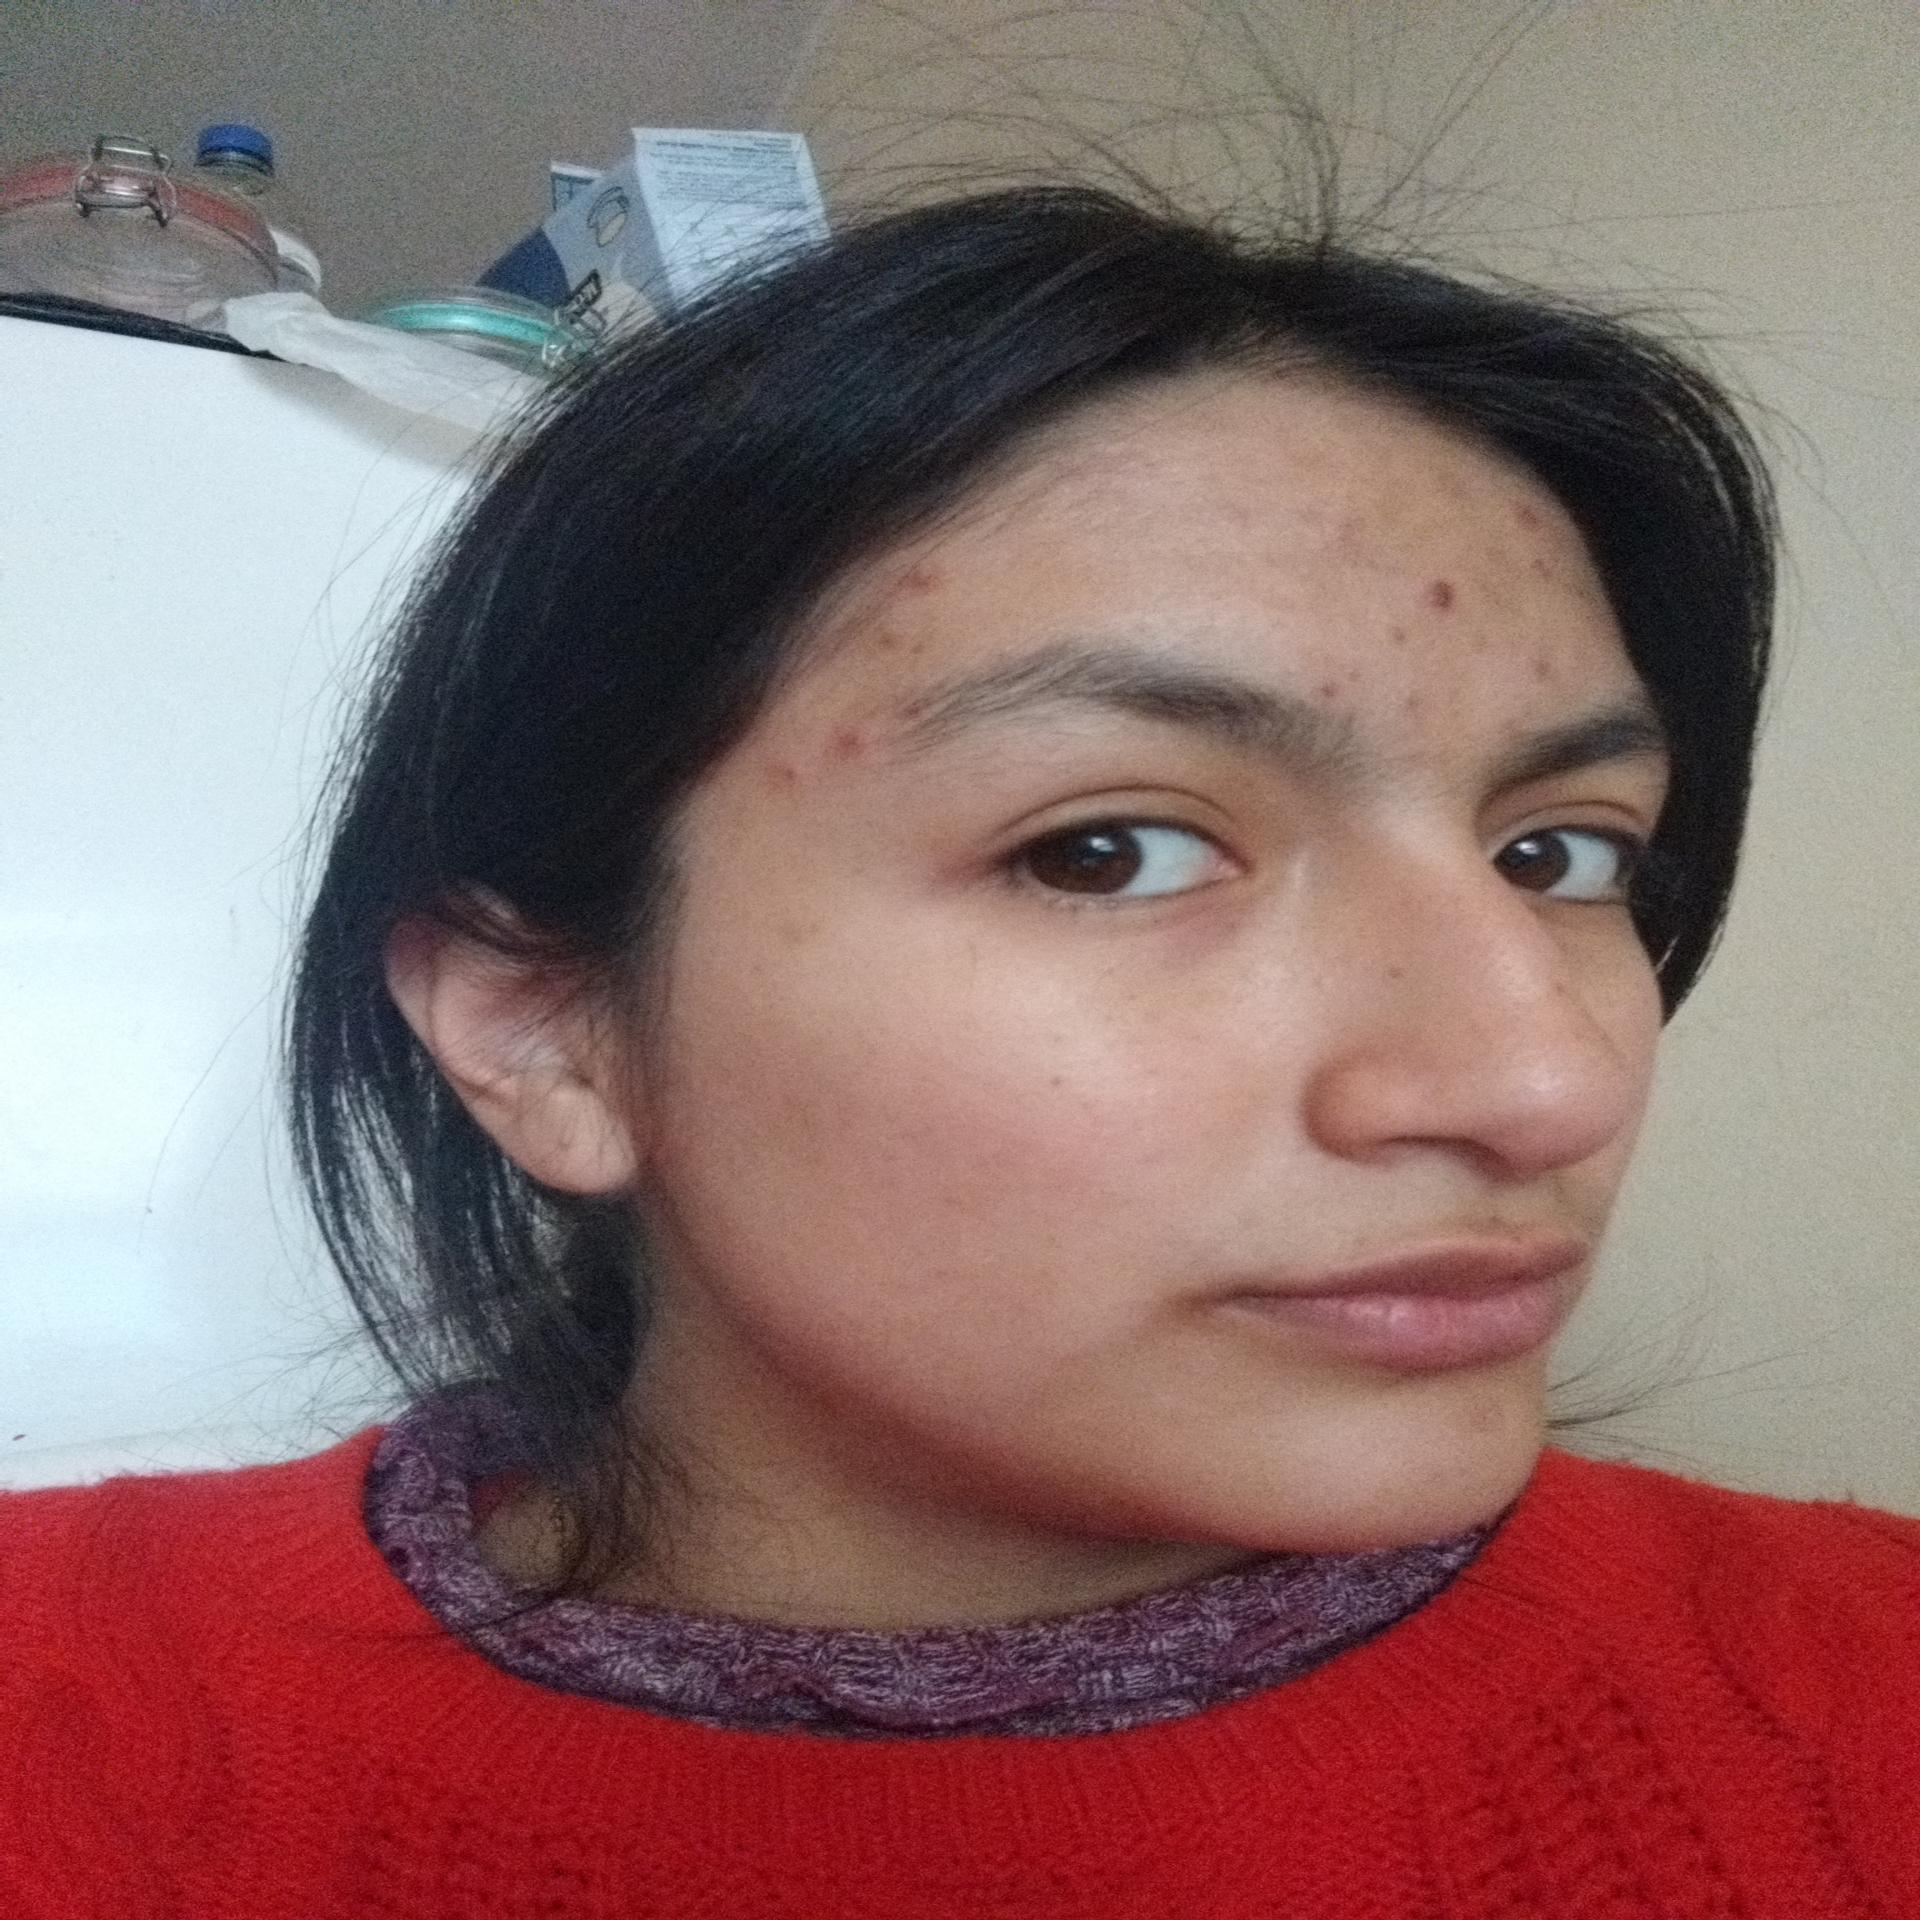Acne: (823, 703, 884, 751), (1312, 663, 1375, 700), (1517, 658, 1577, 696), (1414, 580, 1473, 614), (886, 624, 948, 654), (1554, 582, 1604, 619), (758, 761, 809, 796), (1391, 682, 1433, 724), (1514, 557, 1561, 594), (1428, 478, 1473, 512), (1333, 506, 1375, 542), (904, 557, 949, 589), (1215, 506, 1264, 535), (1377, 622, 1424, 649), (1509, 505, 1549, 529)
